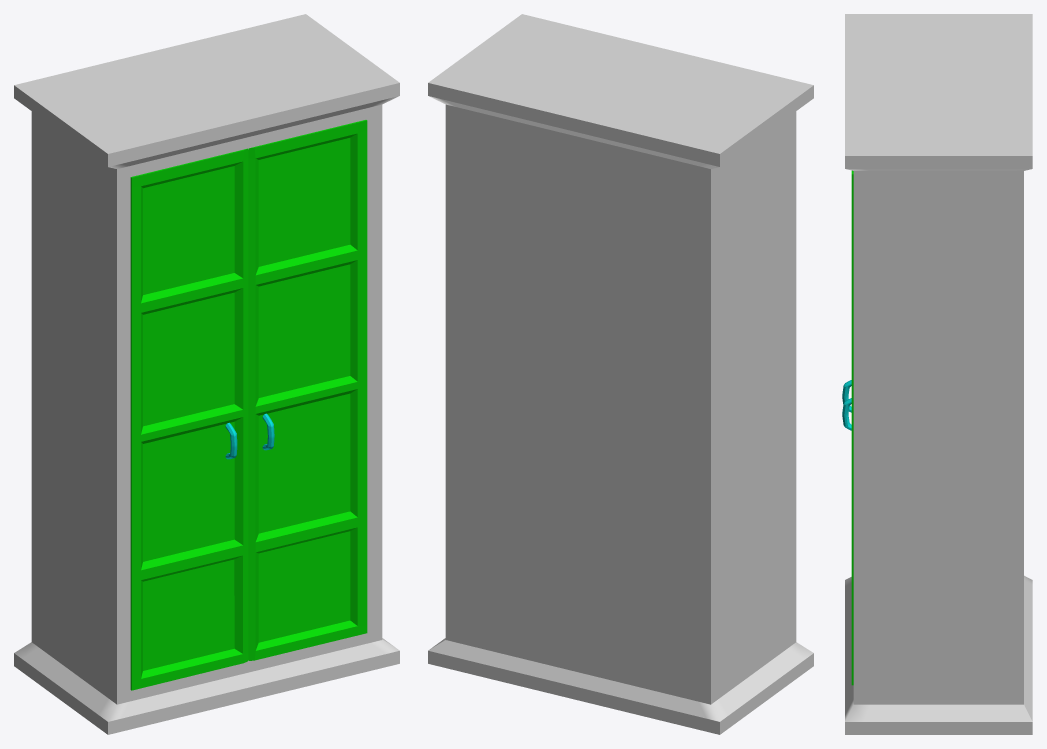
Rendered from closet.fbx.
3 renders of one model, left to right at view 1: azimuth 30°, elevation 25°; view 2: azimuth 150°, elevation 25°; view 3: azimuth 270°, elevation 25°, orthographic.
Visible parts, largest first — view 1: polySurface6, polySurface5, polySurface4; view 2: polySurface6; view 3: polySurface6, polySurface5.
Boxes of the visible parts, x1=… form: polySurface6: x1=14, y1=14, x2=399, y2=734; polySurface5: x1=248, y1=120, x2=367, y2=660; polySurface4: x1=130, y1=148, x2=248, y2=690; polySurface6: x1=428, y1=14, x2=813, y2=734; polySurface6: x1=845, y1=14, x2=1032, y2=734; polySurface5: x1=842, y1=170, x2=853, y2=685.
Size of the model in its own units: 5.46 by 10.38 by 3.09.
